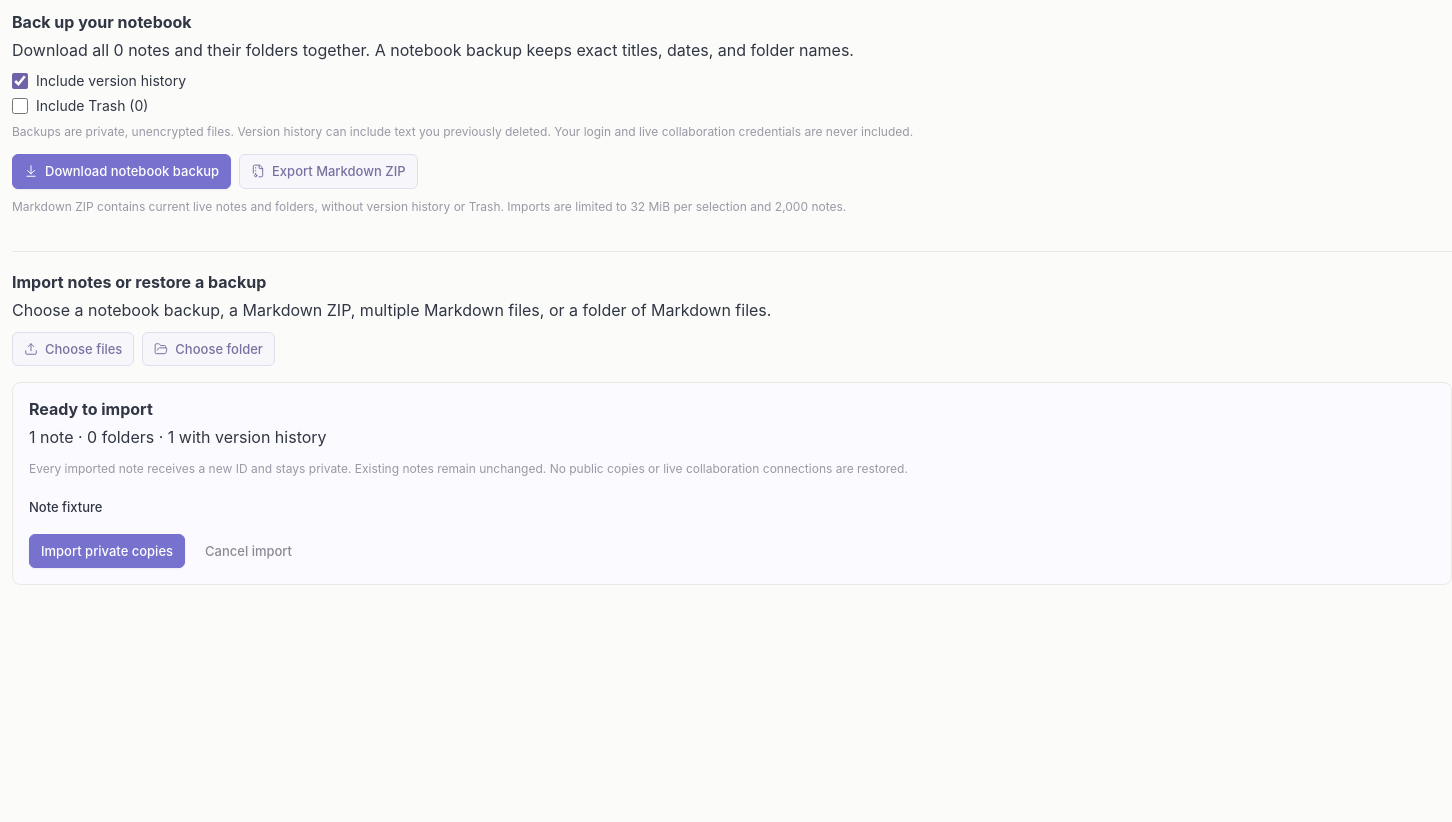
notebook backup panel › keeps a valid preview after an apply failure for retry, and never imports invalid files
This screenshot has width=1452, height=822.
Earlier steps of the test are not shown.
Later steps or results of the test are not shown.
Click the button "Import private copies" at (107, 551), box 29,534 -> 185,568
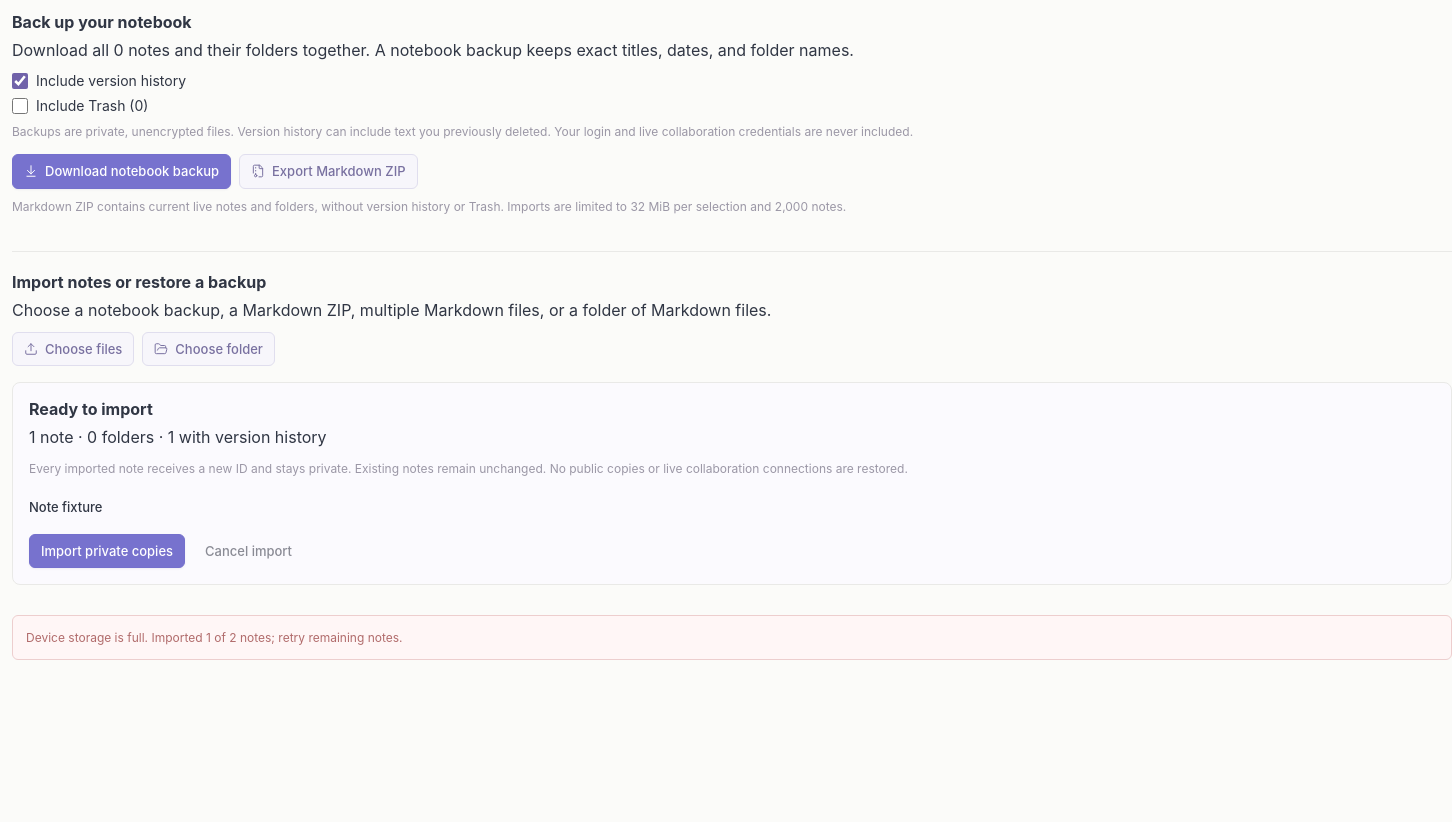
Expected: the element named "Import preview" is shown, 12,382 -> 1451,585
Expected: the message shows "retry remaining", 26,630 -> 402,645
